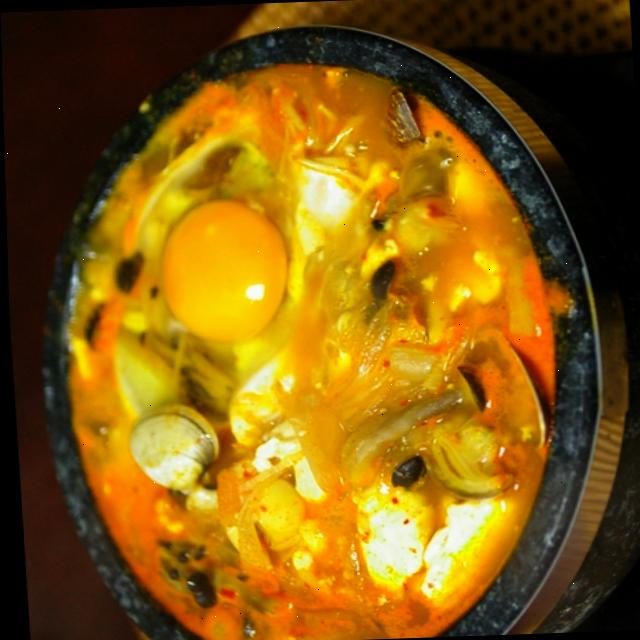汤锅炖物: (6, 7, 638, 640)
